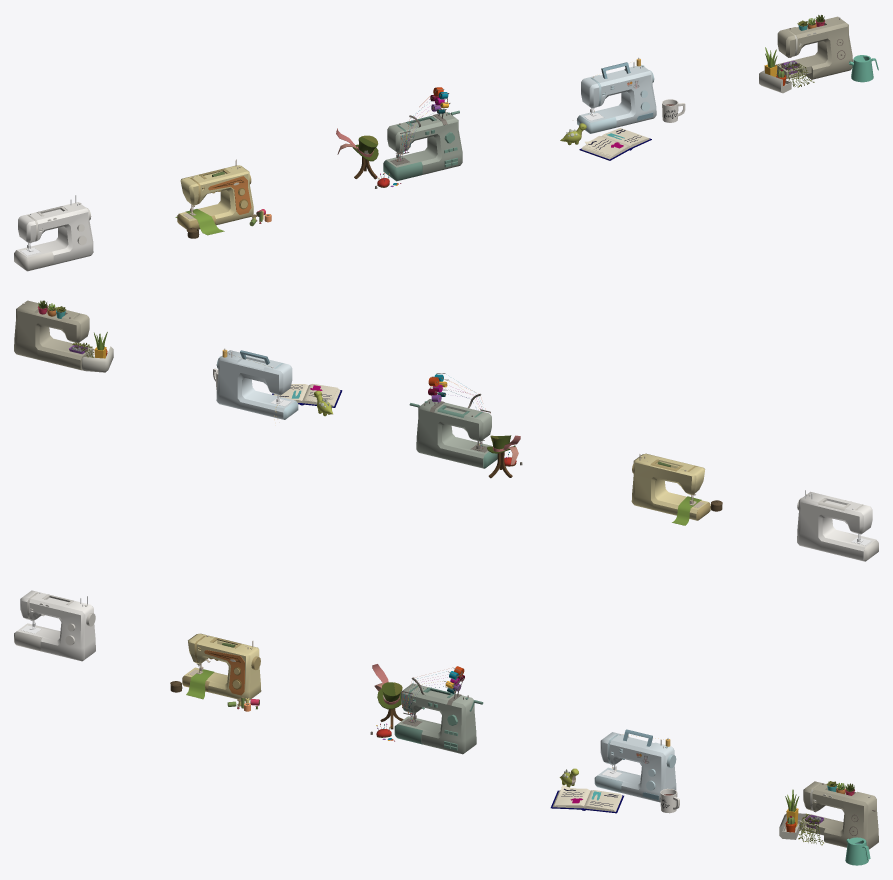
The model's file is Sewing Machine Forms.glb.
3 views of the same model, one above another, from view 1: azimuth 30°, elevation 25°; view 2: azimuth 150°, elevation 25°; view 3: azimuth 330°, elevation 25° (orthographic). The views are drawn at different scales.
Visible parts, largest first — view 1: 5 Body_Material #55_0, Body_Material #49_0, 1 Body_Material #1_0, 3 Body_Material #20_0, 2 Body_Material #4_0, 4 Pages, 2 Body part_Material #6_0, 5 Watering can_Material #66_0, 3 Box_Material #21_0, 1 Box_Material #2_0; view 2: Body_Material #49_0, 1 Body_Material #1_0, 3 Body_Material #20_0, 5 Body_Material #55_0, 2 Body_Material #4_0, 4 Pages; view 3: 5 Body_Material #55_0, 1 Body_Material #1_0, 3 Body_Material #20_0, Body_Material #49_0, 2 Body_Material #4_0, 4 Pages, 2 Body part_Material #6_0, 5 Watering can_Material #66_0.
Part boxes in pixels (x1=…): 5 Body_Material #55_0: x1=776, y1=16, x2=852, y2=79; Body_Material #49_0: x1=580, y1=64, x2=656, y2=127; 1 Body_Material #1_0: x1=17, y1=202, x2=93, y2=265; 3 Body_Material #20_0: x1=386, y1=112, x2=462, y2=175; 2 Body_Material #4_0: x1=179, y1=165, x2=253, y2=225; 4 Pages: x1=581, y1=128, x2=649, y2=159; 2 Body part_Material #6_0: x1=208, y1=176, x2=251, y2=214; 5 Watering can_Material #66_0: x1=849, y1=55, x2=878, y2=82; 3 Box_Material #21_0: x1=383, y1=160, x2=422, y2=181; 1 Box_Material #2_0: x1=14, y1=250, x2=53, y2=271; Body_Material #49_0: x1=216, y1=350, x2=295, y2=419; 1 Body_Material #1_0: x1=797, y1=491, x2=875, y2=561; 3 Body_Material #20_0: x1=416, y1=399, x2=492, y2=468; 5 Body_Material #55_0: x1=14, y1=300, x2=93, y2=370; 2 Body_Material #4_0: x1=631, y1=453, x2=708, y2=520; 4 Pages: x1=273, y1=384, x2=340, y2=406; 5 Body_Material #55_0: x1=799, y1=781, x2=878, y2=849; 1 Body_Material #1_0: x1=17, y1=590, x2=95, y2=661; 3 Body_Material #20_0: x1=397, y1=683, x2=476, y2=754; Body_Material #49_0: x1=597, y1=732, x2=676, y2=802; 2 Body_Material #4_0: x1=184, y1=633, x2=261, y2=701; 4 Pages: x1=552, y1=785, x2=622, y2=811; 2 Body part_Material #6_0: x1=204, y1=650, x2=244, y2=695; 5 Watering can_Material #66_0: x1=845, y1=837, x2=870, y2=865.
Bounding box in the file's own units: 6.56 × 0.5699 × 0.7332.
69 materials, 3 textured.
